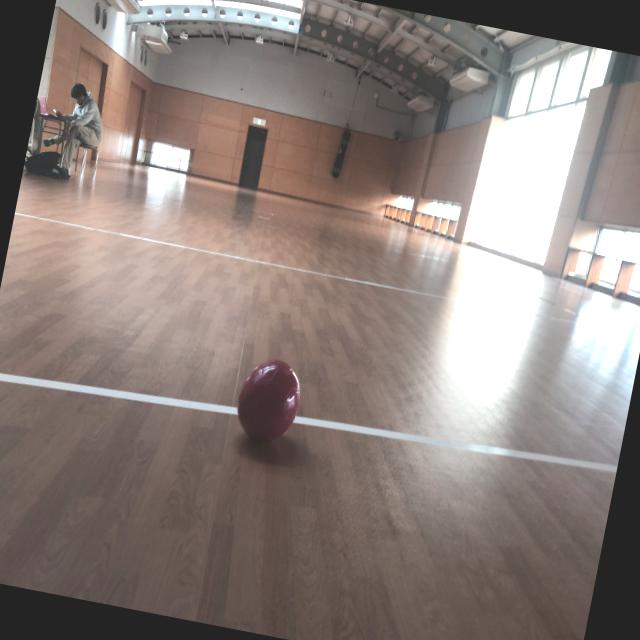red_ball: (231, 353, 307, 452)
